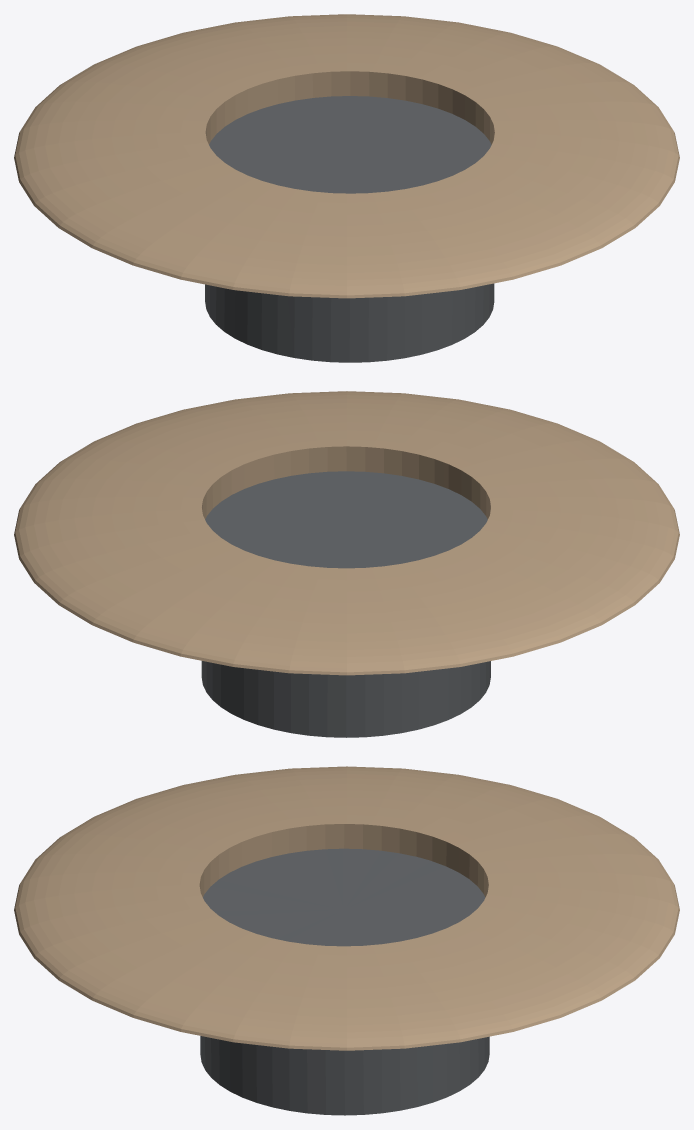
Rendered from Tremendous Rottis (3).glb.
3 views of the same model, one above another, from view 1: azimuth 30°, elevation 25°; view 2: azimuth 150°, elevation 25°; view 3: azimuth 270°, elevation 25° (orthographic).
Parts seen in each view (by area): view 1: Mesh_Mesh_head_geo.001_lambert2SG.001; view 2: Mesh_Mesh_head_geo.001_lambert2SG.001; view 3: Mesh_Mesh_head_geo.001_lambert2SG.001.
Part boxes in pixels (x1,y1,x2,y2): Mesh_Mesh_head_geo.001_lambert2SG.001: (14,14,679,362); Mesh_Mesh_head_geo.001_lambert2SG.001: (14,391,679,737); Mesh_Mesh_head_geo.001_lambert2SG.001: (14,766,679,1115).
Size of the model in its own units: 0.17 by 0.0478 by 0.17.
